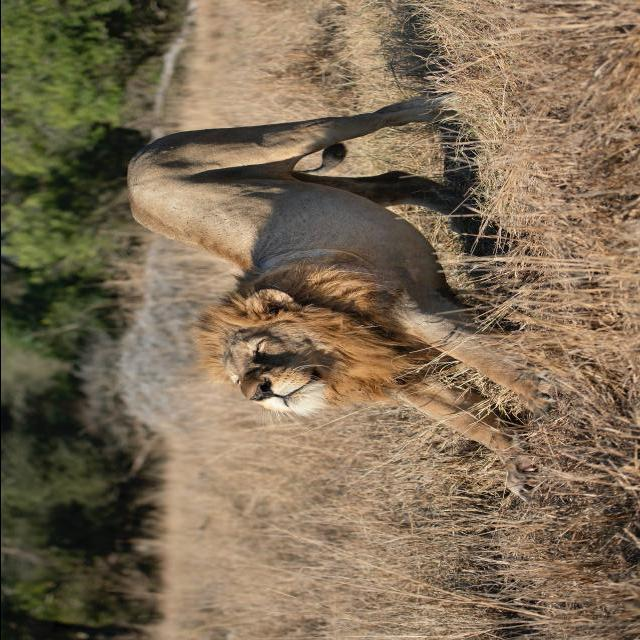lions: (20, 84, 640, 495)
